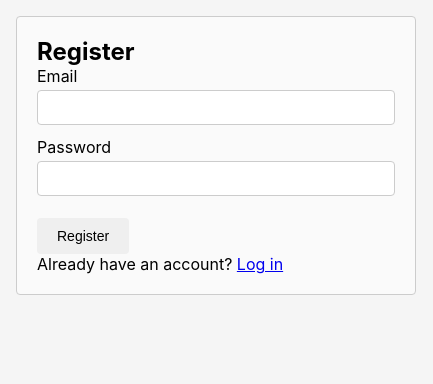
Test: Register Component › displays generic error message when error details are not available
Type "test@example.com" into the field labelled "Email" at (216, 108), box [37,90,395,125]
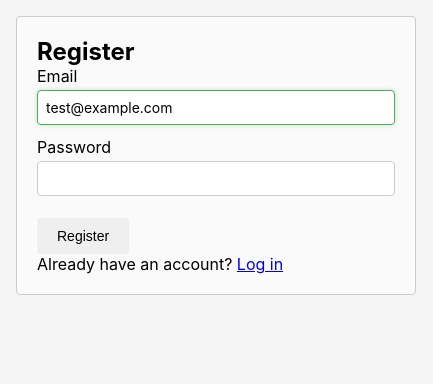
Type "password123" into the password field labelled "Password" at (216, 178), box [37,161,395,196]
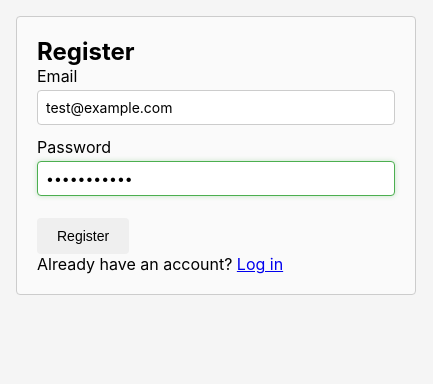
Click the button "Register" at (83, 236), box [37,218,129,254]
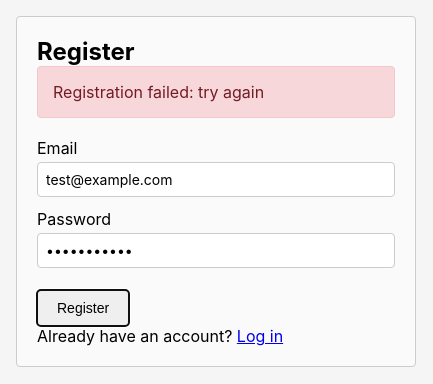
Expected: the text "Registration failed: try again" is shown, [37,66,395,118]
